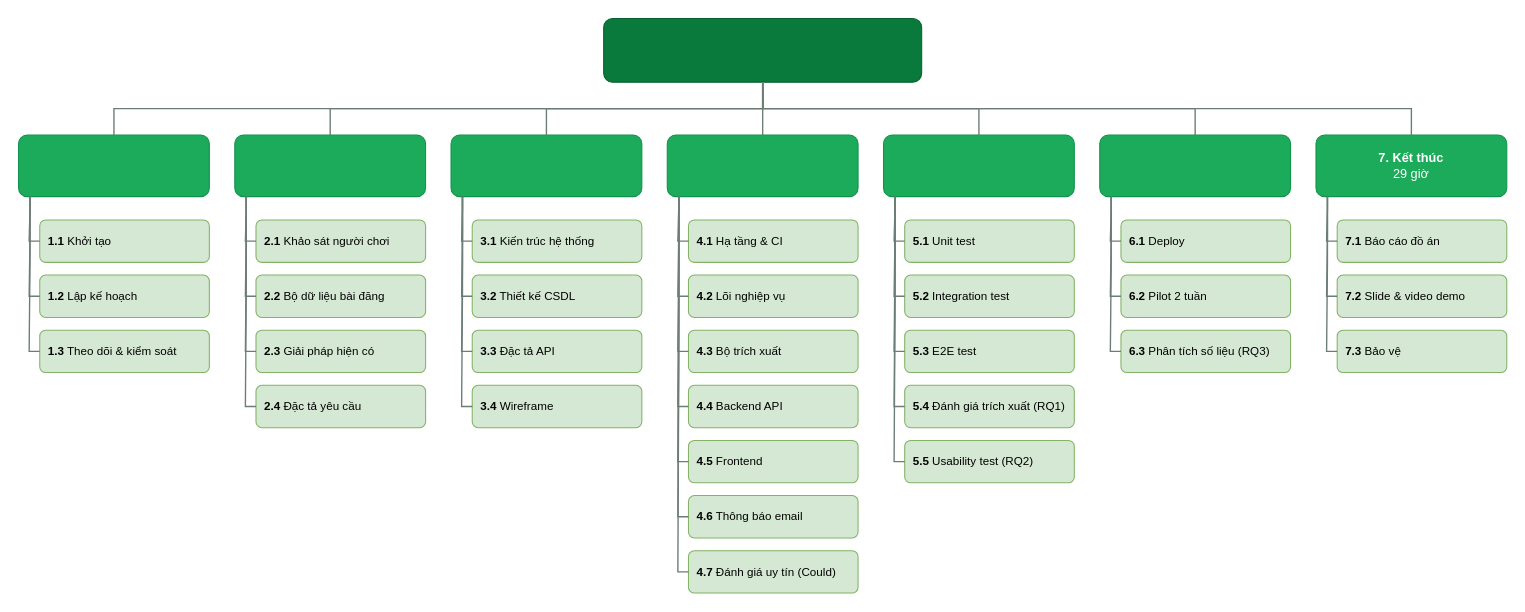
This 1525x612 diagram has some shape labels left out. Each missing label, with the centre of its shape:
"1. Quản lý dự án 31 giờ" goes at point 113,165.
"2. Khảo sát & phân tích 33 giờ" goes at point 330,165.
"3. Thiết kế 15 giờ" goes at point 546,165.
"4. Phát triển 99 giờ" goes at point 762,165.
"5. Kiểm thử & đánh giá 34 giờ" goes at point 978,165.
"6. Triển khai & pilot 19 giờ" goes at point 1195,165.
"BADMINTON MATCHING" goes at point 762,49.
